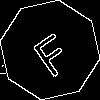F: (25, 25, 76, 79)
